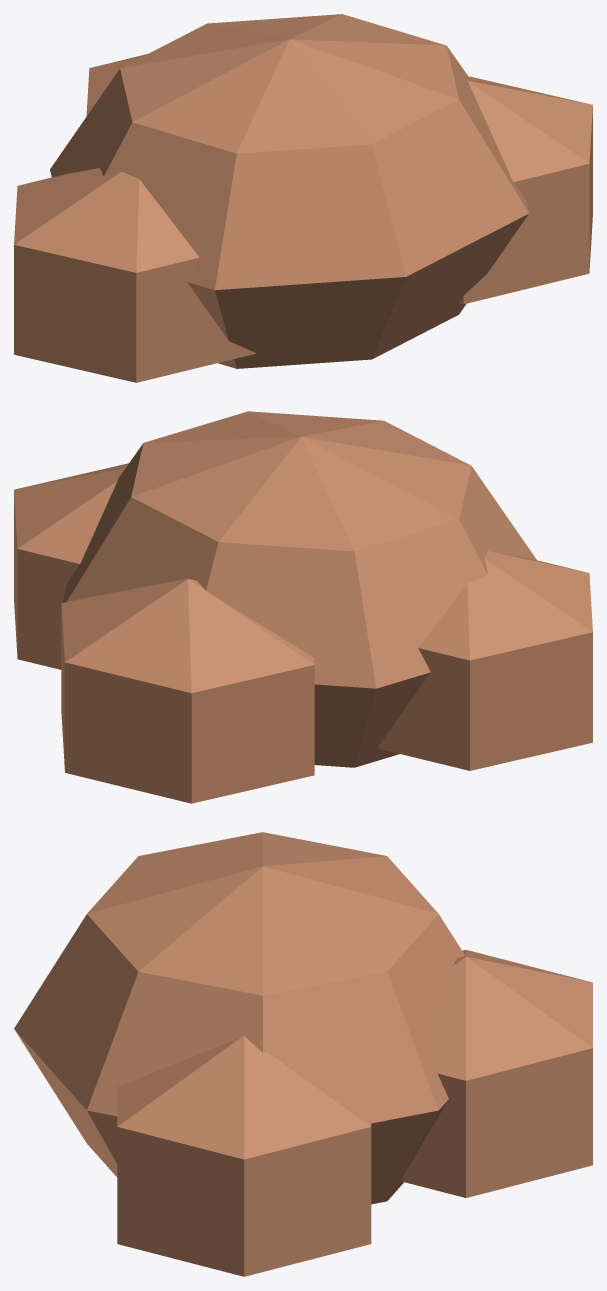
3 renders of one model, top to bottom at view 1: azimuth 30°, elevation 25°; view 2: azimuth 150°, elevation 25°; view 3: azimuth 270°, elevation 25°, orthographic. The views are drawn at different scales.
Parts seen in each view (by area): view 1: SC_LarchShrubRed; view 2: SC_LarchShrubRed; view 3: SC_LarchShrubRed.
Boxes of the visible parts, x1=… form: SC_LarchShrubRed: x1=14, y1=14, x2=592, y2=382; SC_LarchShrubRed: x1=14, y1=411, x2=592, y2=803; SC_LarchShrubRed: x1=14, y1=832, x2=592, y2=1276.
Size of the model in its own units: 1.43 by 0.72 by 1.16.
